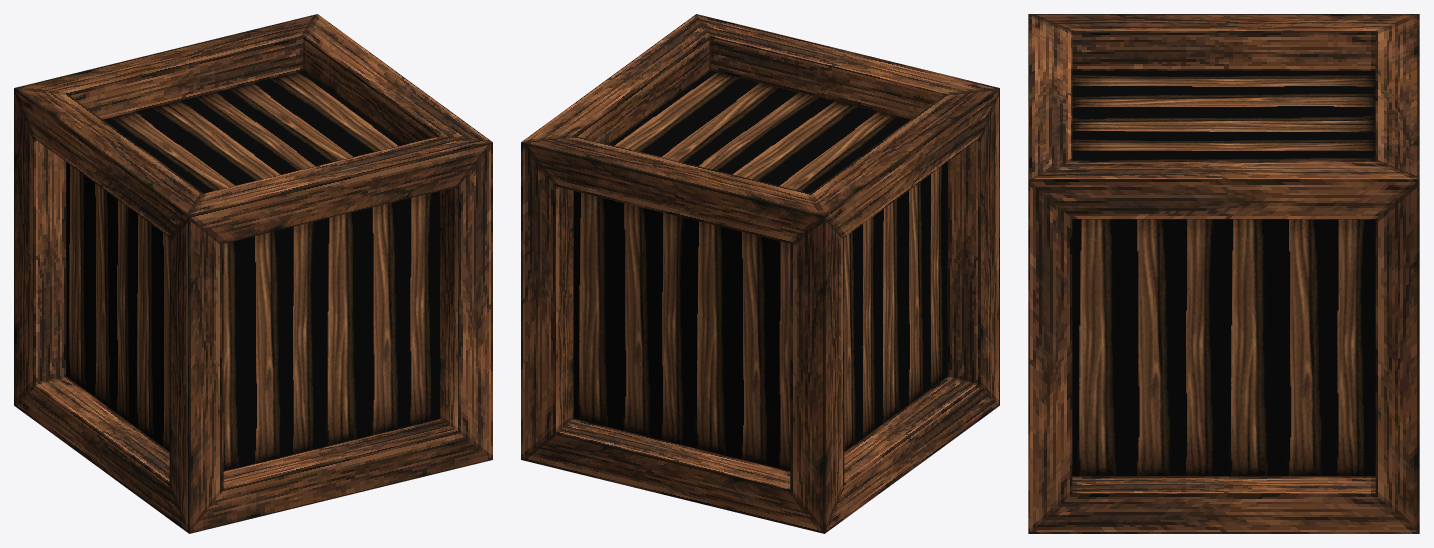
Rendered from INST_LT_CRATESLATS.obj.
3 renders of one model, left to right at view 1: azimuth 30°, elevation 25°; view 2: azimuth 150°, elevation 25°; view 3: azimuth 270°, elevation 25°, orthographic. The views are drawn at different scales.
Size of the model in its own units: 100 by 100 by 100.
